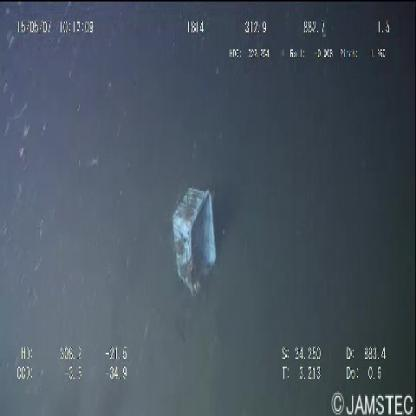Rác: (173, 188, 217, 298)
